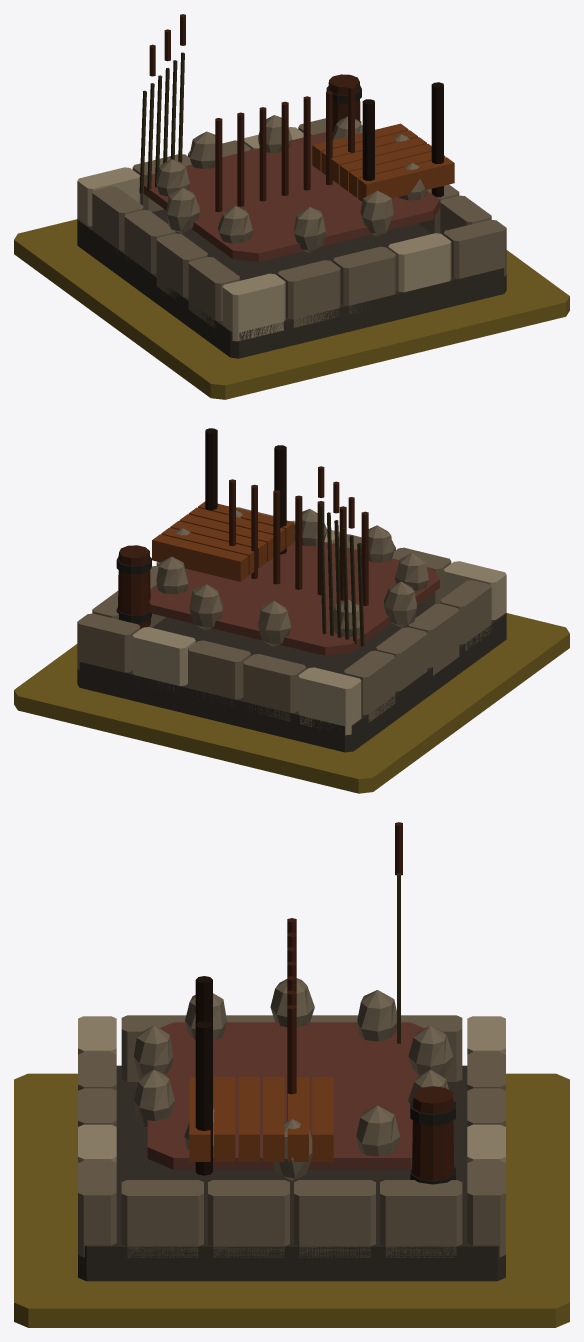
The model's file is blackwater-weir_t3.glb.
3 views of the same model, one above another, from view 1: azimuth 30°, elevation 25°; view 2: azimuth 150°, elevation 25°; view 3: azimuth 270°, elevation 25° (orthographic). The views are drawn at different scales.
Parts seen in each view (by area): view 1: MMR | blackwater-weir | T03 Architecture.001, MMR | blackwater-weir | Tier 03 Ground.001; view 2: MMR | blackwater-weir | T03 Architecture.001, MMR | blackwater-weir | Tier 03 Ground.001; view 3: MMR | blackwater-weir | T03 Architecture.001, MMR | blackwater-weir | Tier 03 Ground.001.
Boxes of the visible parts, x1,y1,x2,y2 form: MMR | blackwater-weir | T03 Architecture.001: (77, 14, 506, 358); MMR | blackwater-weir | Tier 03 Ground.001: (14, 219, 569, 399); MMR | blackwater-weir | T03 Architecture.001: (77, 428, 506, 752); MMR | blackwater-weir | Tier 03 Ground.001: (14, 613, 569, 793); MMR | blackwater-weir | T03 Architecture.001: (78, 822, 505, 1281); MMR | blackwater-weir | Tier 03 Ground.001: (14, 1073, 569, 1327).
Bounding box in the file's own units: 1.3 × 0.88 × 1.3.
1 material, 1 textured.
